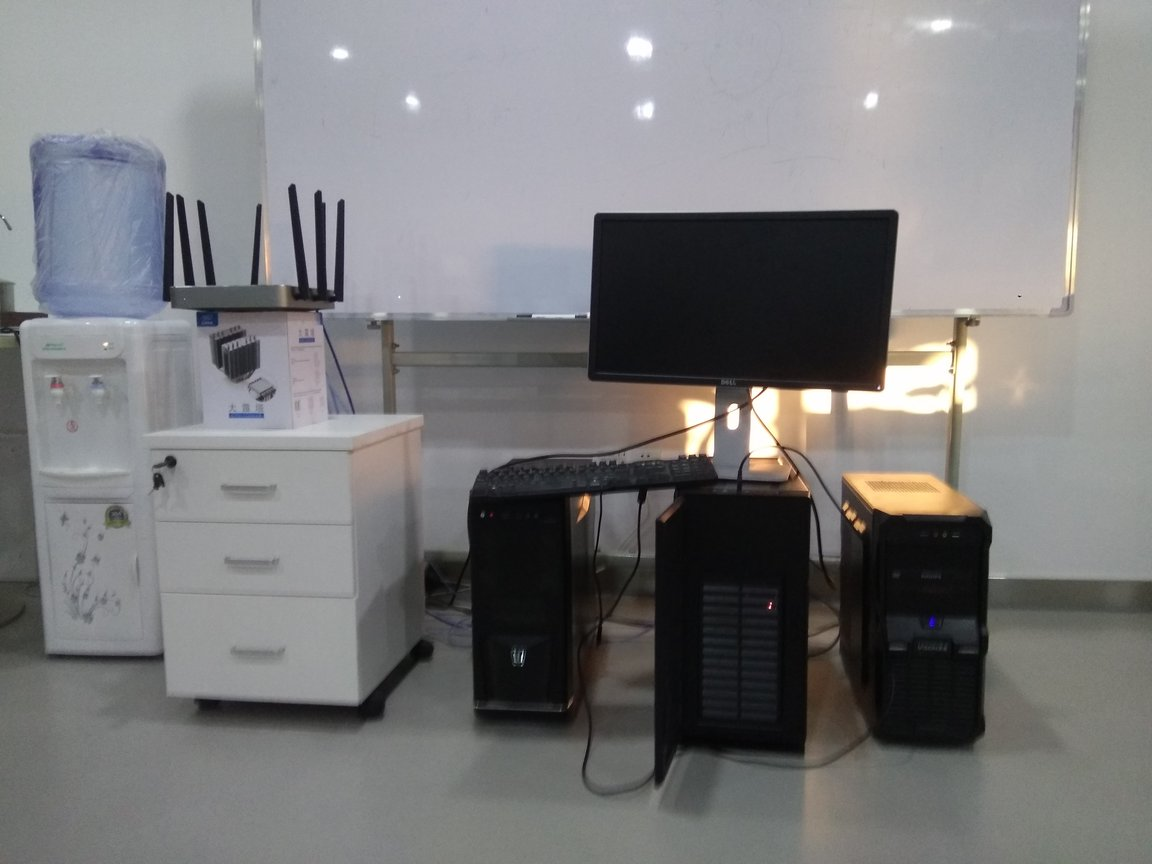computer: (656, 486, 809, 788), (836, 465, 995, 755), (462, 493, 604, 727)
drawer chest: (140, 422, 432, 732)
monitor: (588, 209, 894, 474)
scuttlebutt: (21, 127, 170, 325)
water dispenser: (14, 310, 193, 663)
